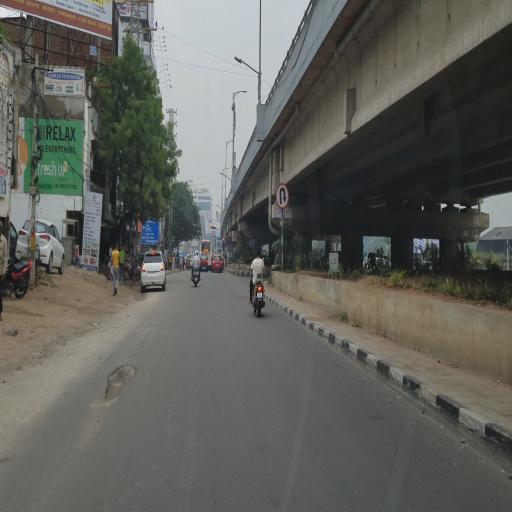street_light_0: (232, 48, 262, 74), (218, 164, 236, 186), (230, 86, 252, 102), (222, 131, 238, 147)
